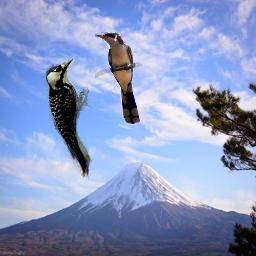Cuckoo: (95, 32, 142, 126)
Woodpecker: (40, 55, 100, 186)
